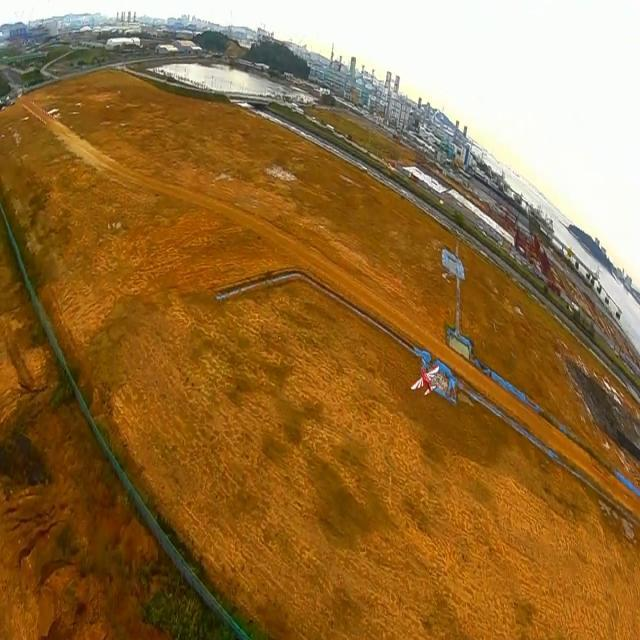iha: (407, 360, 455, 400)
